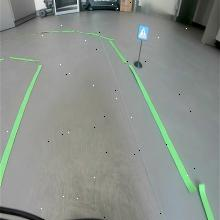crosswalk: (137, 24, 149, 42)
